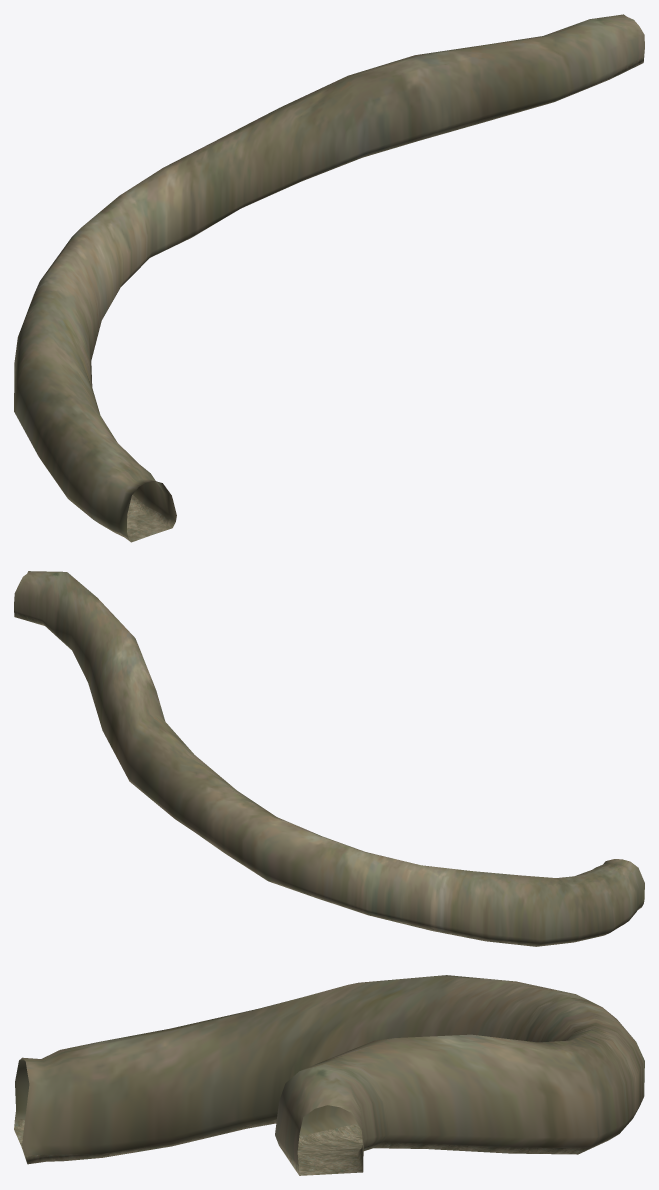
Rendered from EKH_JAIL_PS_JA_TUNNEL_03.fbx.
3 renders of one model, top to bottom at view 1: azimuth 30°, elevation 25°; view 2: azimuth 150°, elevation 25°; view 3: azimuth 270°, elevation 25°, orthographic. The views are drawn at different scales.
Parts seen in each view (by area): view 1: EKH_JAIL_PS_JA_TUNNEL_03; view 2: EKH_JAIL_PS_JA_TUNNEL_03; view 3: EKH_JAIL_PS_JA_TUNNEL_03.
Part boxes in pixels (box(x1,y1,x2,y2)): EKH_JAIL_PS_JA_TUNNEL_03: box(14, 14, 644, 542); EKH_JAIL_PS_JA_TUNNEL_03: box(14, 571, 644, 946); EKH_JAIL_PS_JA_TUNNEL_03: box(14, 975, 644, 1175).
Bounding box in the file's own units: 318823 × 153616 × 180060.
1 material, 1 textured.
